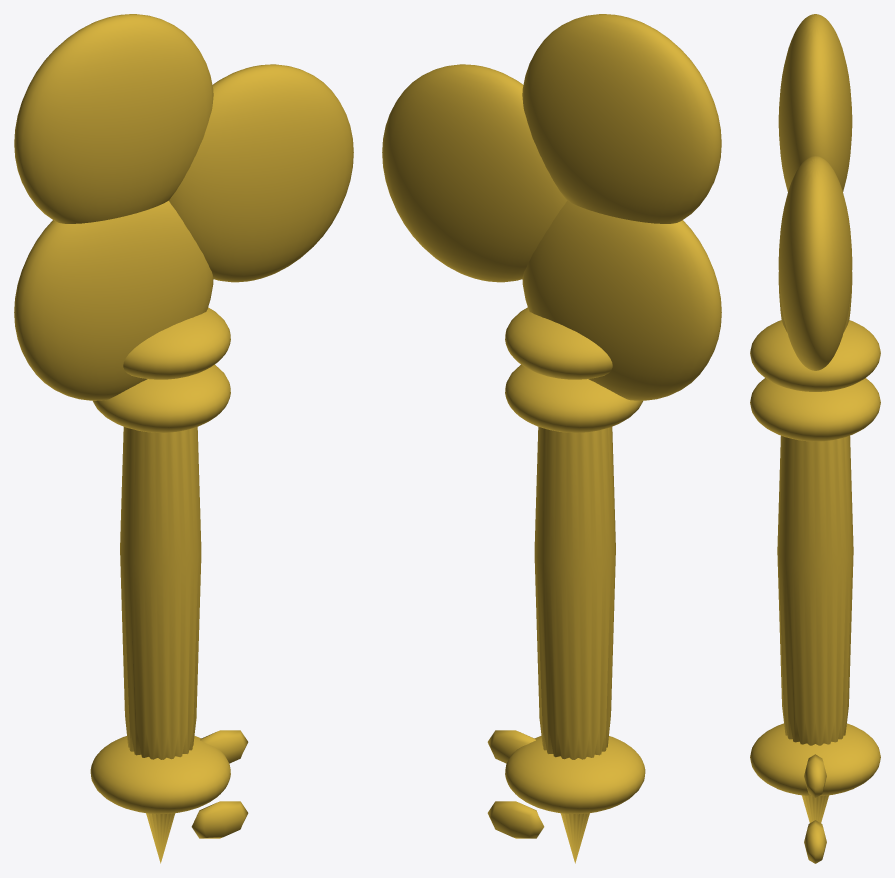
File: prop_key_gold.glb
The picture shows the model from 3 angles, left to right: view 1: azimuth 30°, elevation 25°; view 2: azimuth 150°, elevation 25°; view 3: azimuth 270°, elevation 25°; orthographic projection. The views are drawn at different scales.
Parts seen in each view (by area): view 1: prop_key_gold; view 2: prop_key_gold; view 3: prop_key_gold.
Boxes of the visible parts, x1,y1,x2,y2 form: prop_key_gold: [14, 14, 353, 863]; prop_key_gold: [382, 14, 721, 863]; prop_key_gold: [750, 14, 880, 863].
Bounding box in the file's own units: 0.0396 × 0.0968 × 0.0144.
